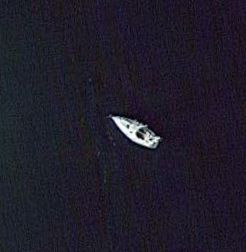boat: (106, 113, 162, 151)
